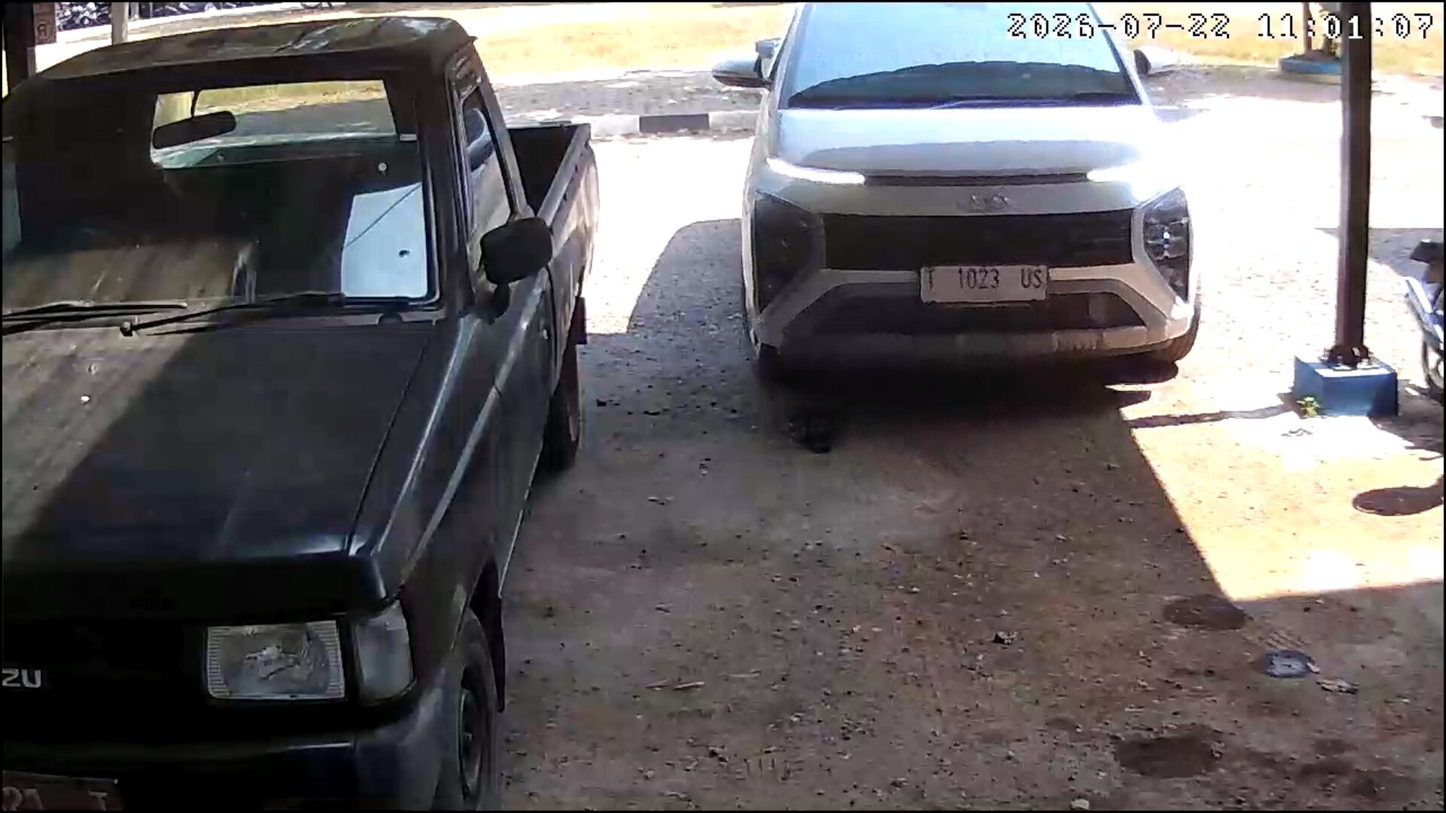plat nomor: (920, 265, 1047, 305)
